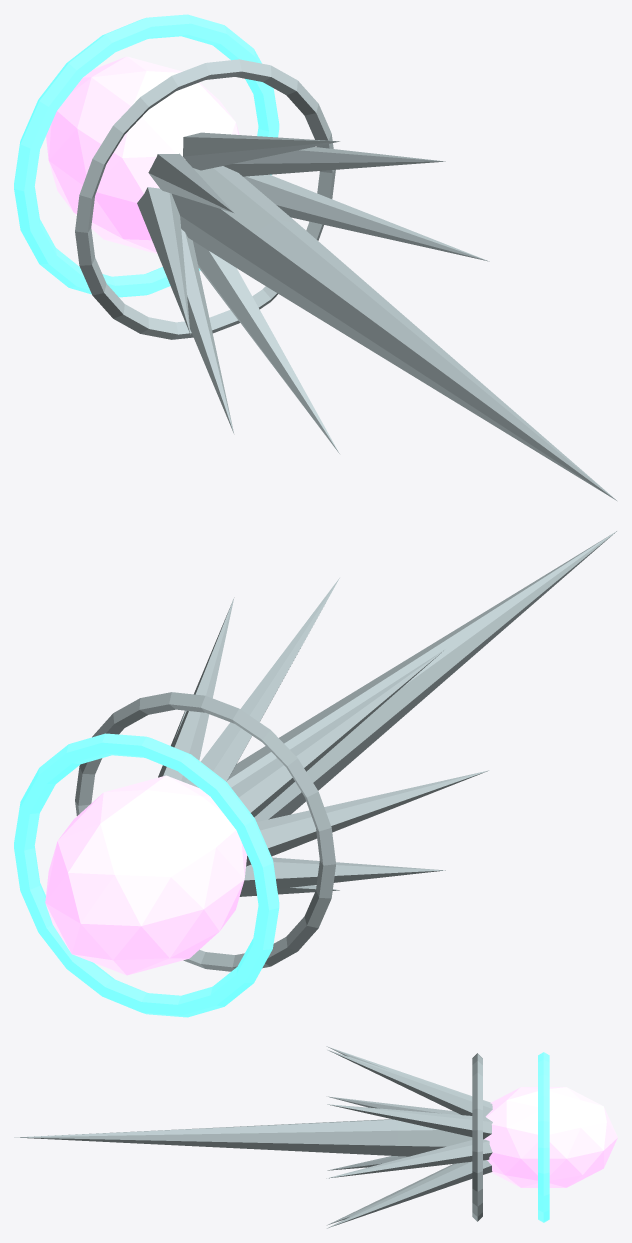
Rendered from Disparo_VIP.fbx.
3 renders of one model, top to bottom at view 1: azimuth 30°, elevation 25°; view 2: azimuth 150°, elevation 25°; view 3: azimuth 270°, elevation 25°, orthographic. The views are drawn at different scales.
Visible parts, largest first — view 1: Fogonazo_VIP, Proyectil_VIP_Nucleo, Proyectil_VIP_Aro; view 2: Fogonazo_VIP, Proyectil_VIP_Nucleo, Proyectil_VIP_Aro; view 3: Fogonazo_VIP, Proyectil_VIP_Nucleo, Proyectil_VIP_Aro.
Part boxes in pixels (<box>): Fogonazo_VIP: <box>75,59,616,500</box>; Proyectil_VIP_Nucleo: <box>46,56,239,253</box>; Proyectil_VIP_Aro: <box>14,14,279,297</box>; Fogonazo_VIP: <box>75,531,616,971</box>; Proyectil_VIP_Nucleo: <box>45,775,247,975</box>; Proyectil_VIP_Aro: <box>14,733,279,1017</box>; Fogonazo_VIP: <box>14,1046,492,1228</box>; Proyectil_VIP_Nucleo: <box>484,1087,617,1187</box>; Proyectil_VIP_Aro: <box>538,1052,549,1222</box>.
Bounding box in the file's own units: 0.7342 × 0.7341 × 2.28.
